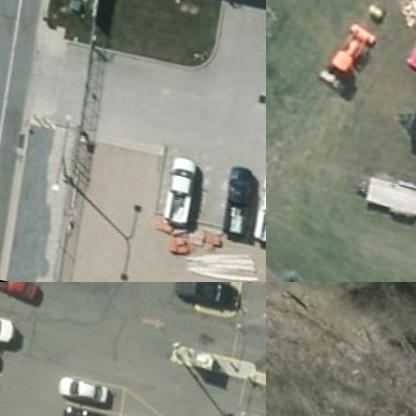car: (152, 158, 202, 233), (216, 170, 260, 238), (59, 369, 115, 408), (247, 173, 265, 246), (174, 282, 228, 304), (0, 282, 41, 304), (61, 404, 118, 415), (0, 308, 14, 348)
other: (304, 19, 381, 105)
